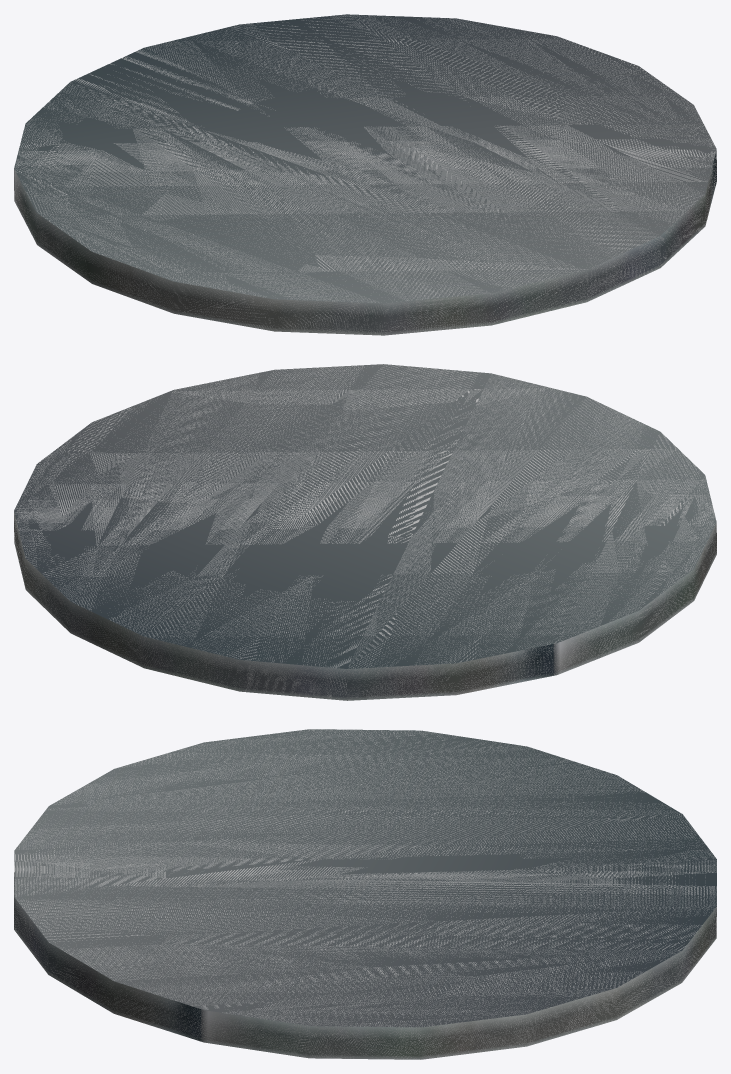
File: original-13.obj
3 renders of one model, top to bottom at view 1: azimuth 30°, elevation 25°; view 2: azimuth 150°, elevation 25°; view 3: azimuth 270°, elevation 25°, orthographic.
Parts seen in each view (by area): view 1: Tip1/Tip/mesh4/mesh4-geometry#mesh4-geometry; view 2: Tip1/Tip/mesh4/mesh4-geometry#mesh4-geometry; view 3: Tip1/Tip/mesh4/mesh4-geometry#mesh4-geometry.
Boxes of the visible parts, left/top/right/bottom form: Tip1/Tip/mesh4/mesh4-geometry#mesh4-geometry: left=14, top=14, right=716, bottom=335; Tip1/Tip/mesh4/mesh4-geometry#mesh4-geometry: left=14, top=364, right=716, bottom=700; Tip1/Tip/mesh4/mesh4-geometry#mesh4-geometry: left=14, top=729, right=716, bottom=1059.
Bounding box in the file's own units: 0.3085 × 0.02 × 0.3086.
